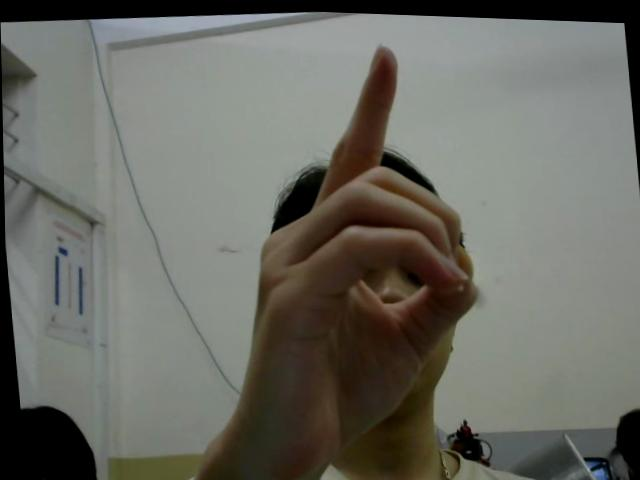D: (206, 30, 490, 478)
